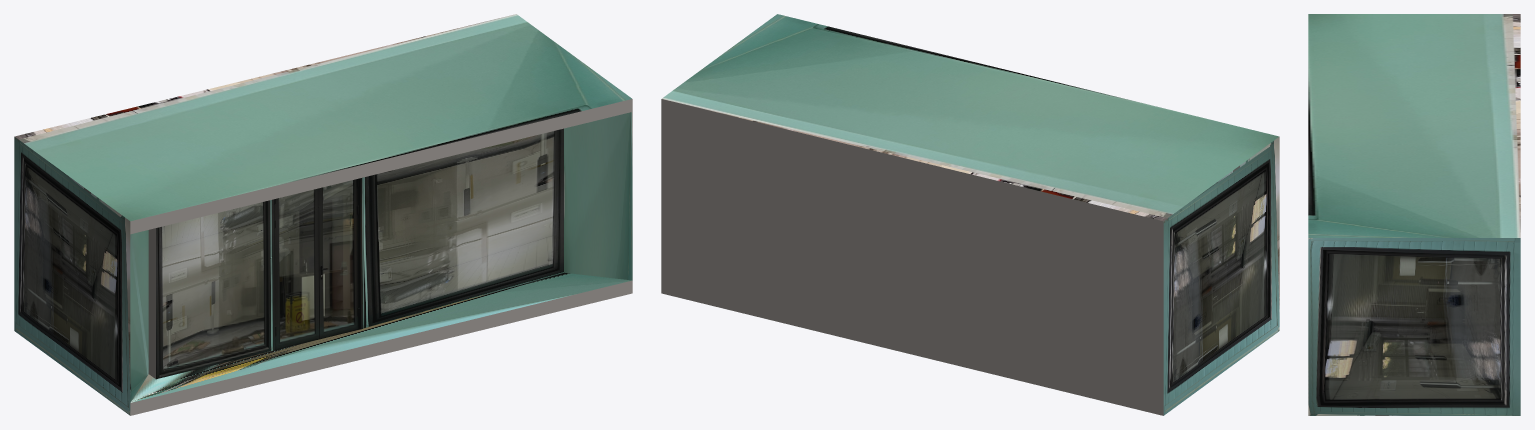
Rendered from house.dae.
3 renders of one model, left to right at view 1: azimuth 30°, elevation 25°; view 2: azimuth 150°, elevation 25°; view 3: azimuth 270°, elevation 25°, orthographic. The views are drawn at different scales.
Visible parts, largest first — view 1: base_link; view 2: base_link; view 3: base_link.
Part boxes in pixels (left/top/right/bottom): base_link: left=14, top=14, right=632, bottom=415; base_link: left=661, top=14, right=1279, bottom=415; base_link: left=1308, top=14, right=1520, bottom=415.
Size of the model in its own units: 8.1 by 3.24 by 3.
